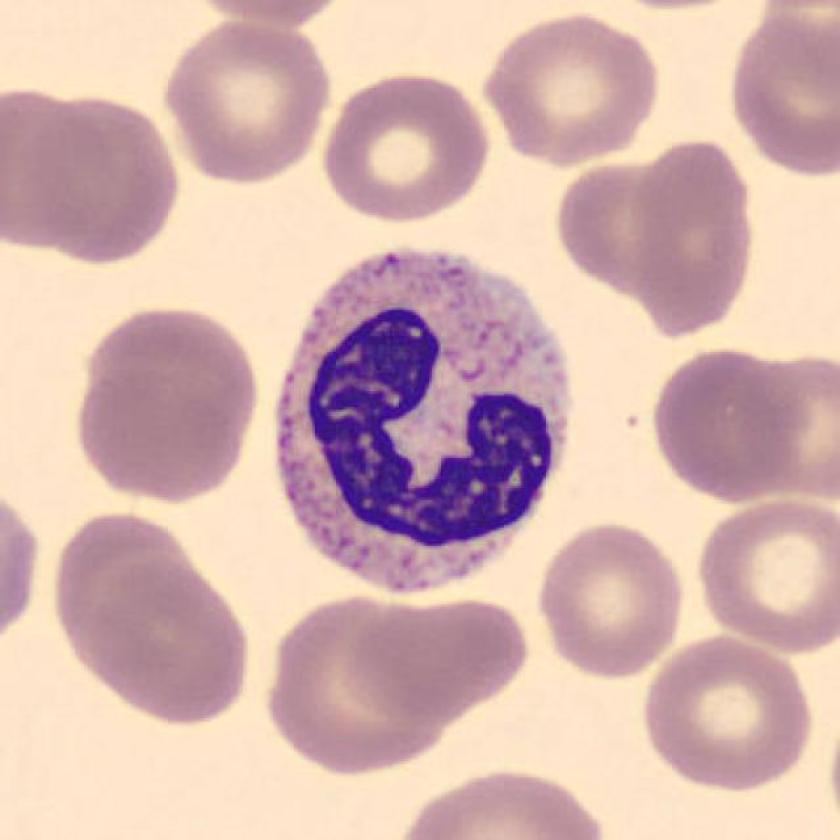neutrophil: (280, 247, 572, 591)
